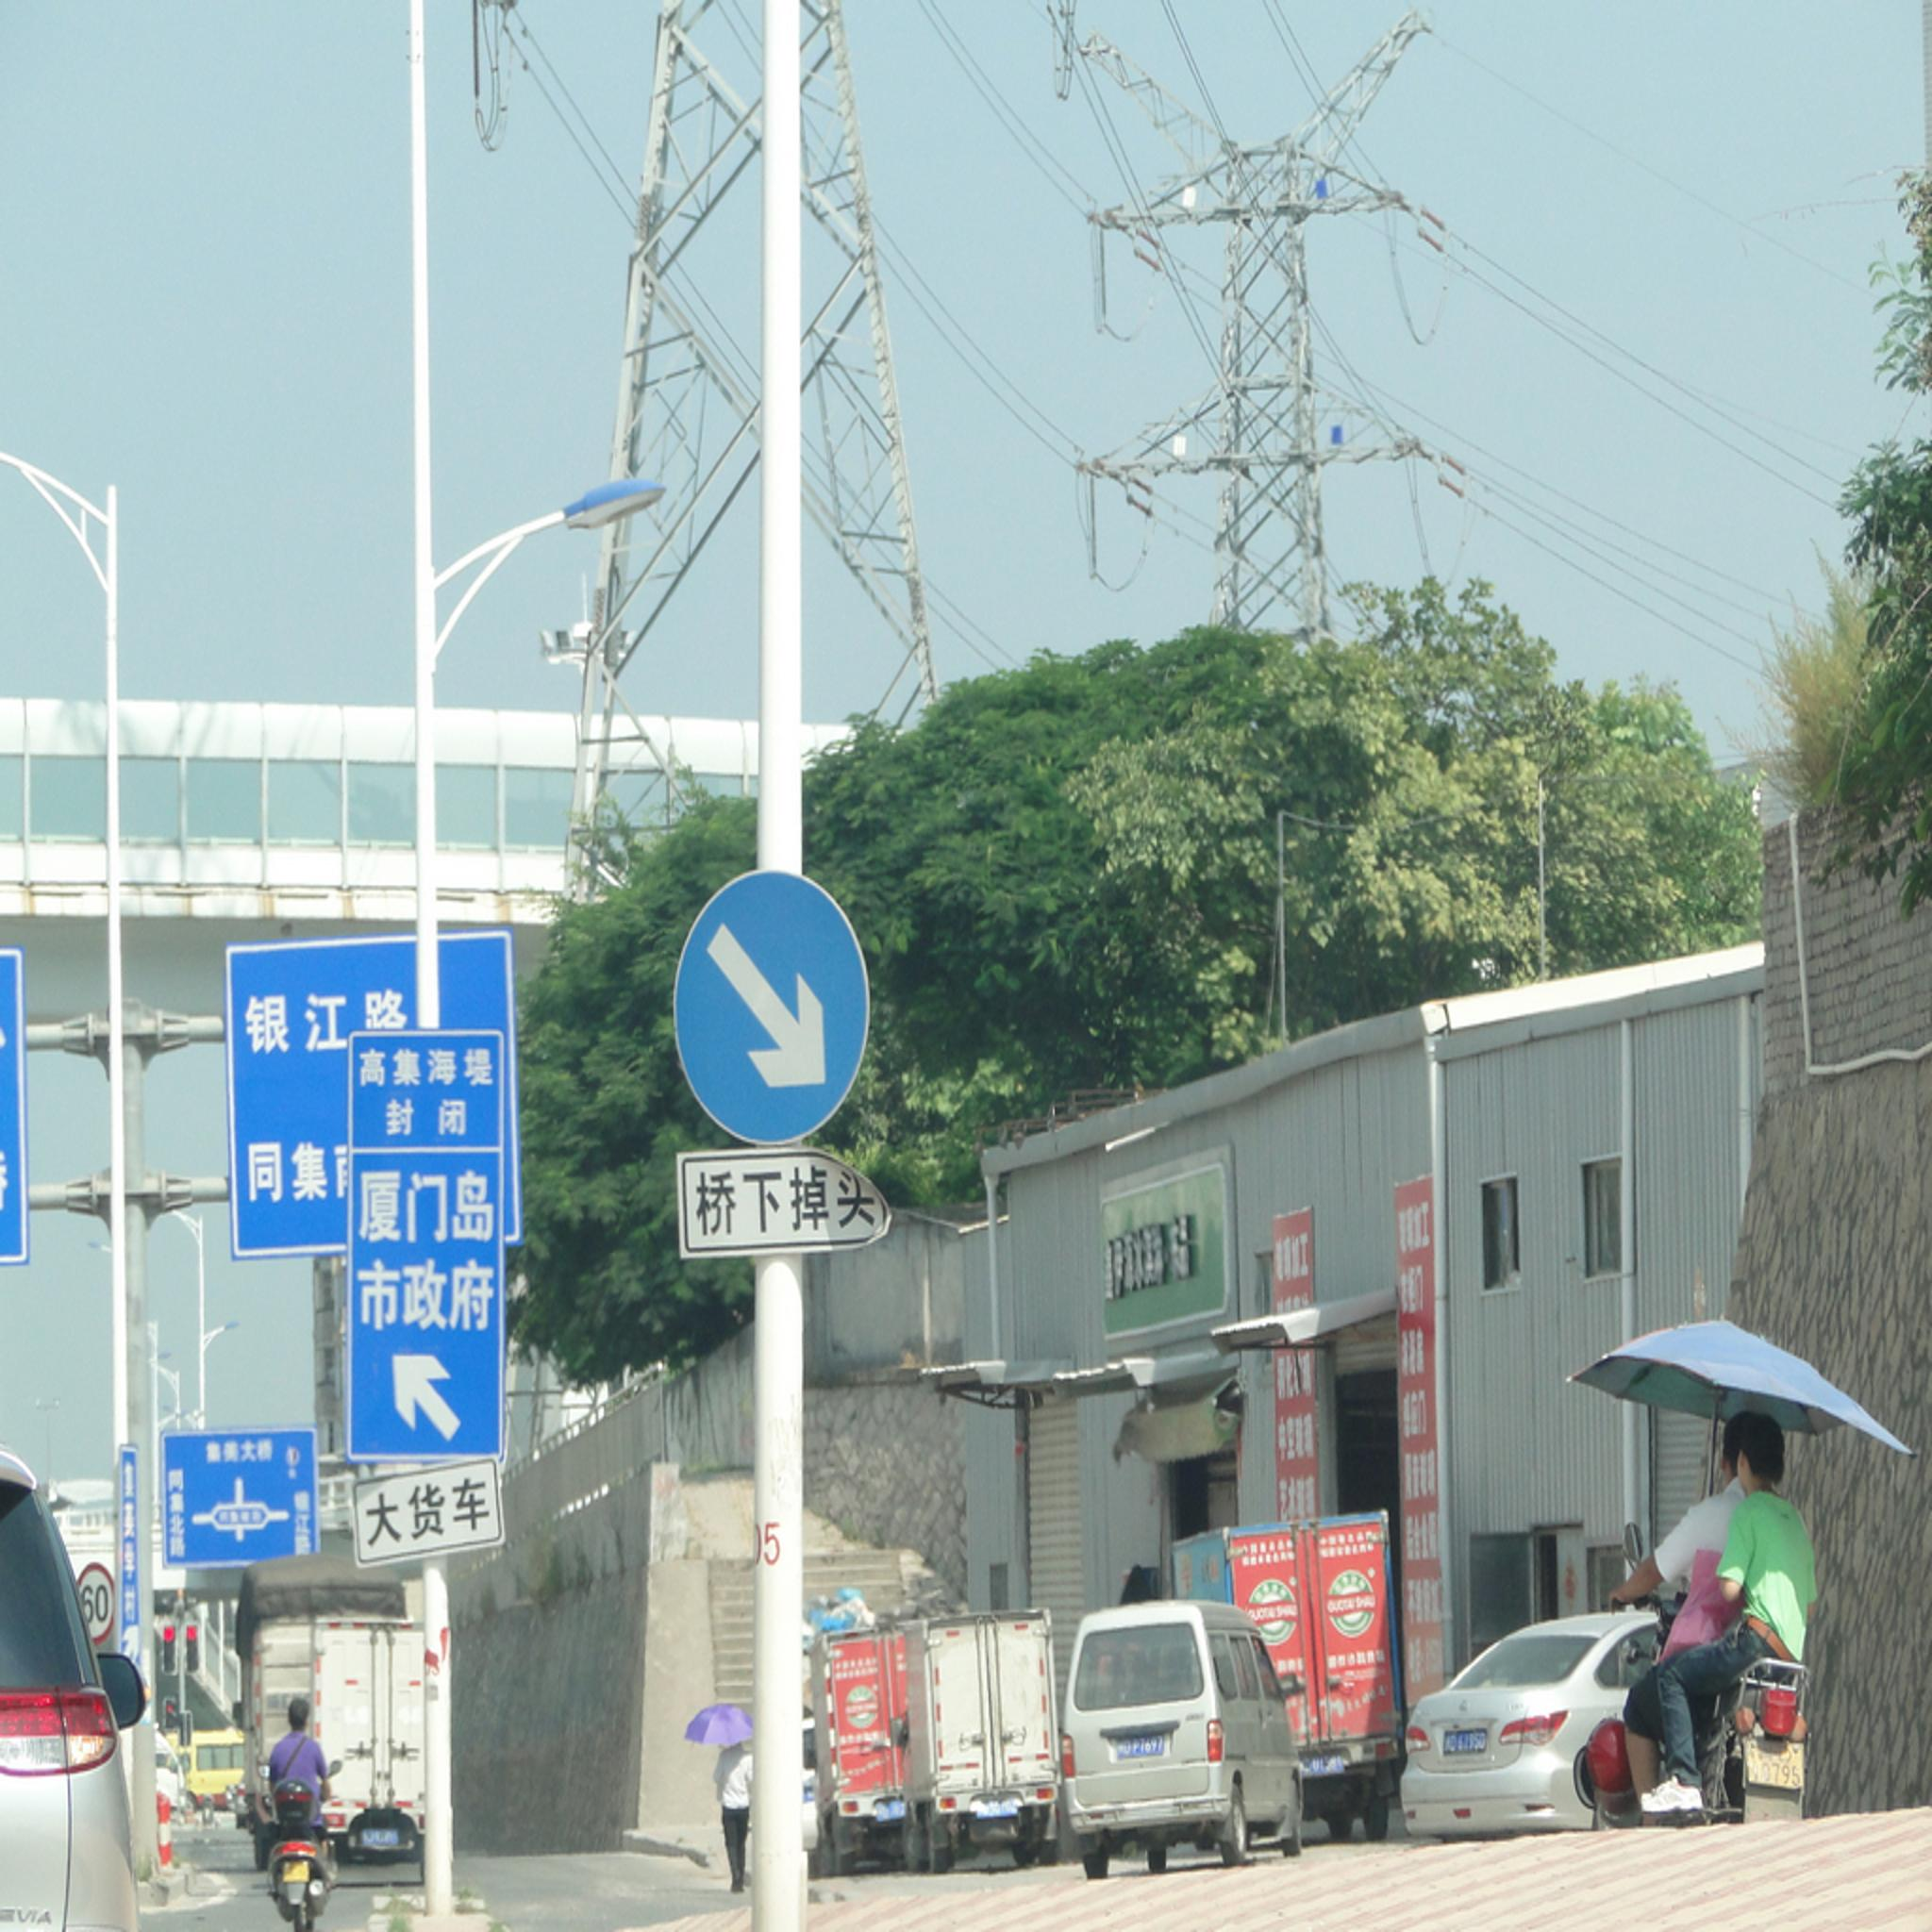i5: (671, 872, 870, 1150)
